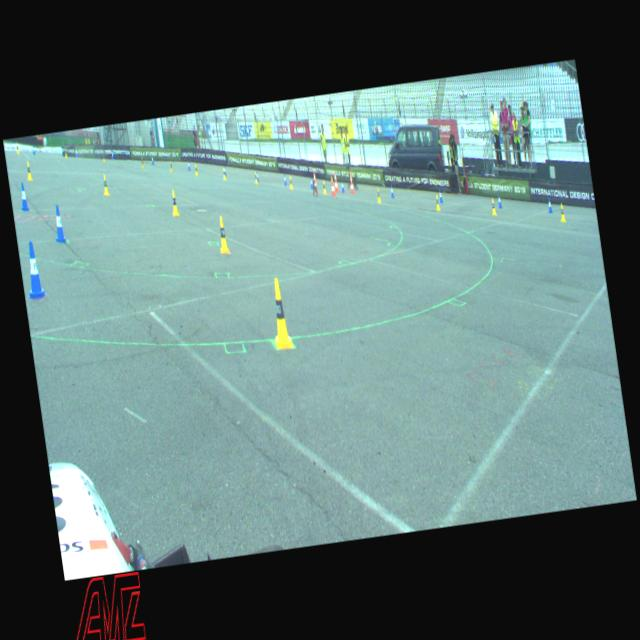blue_cone: (20, 240, 47, 302), (50, 203, 67, 246), (18, 182, 30, 212), (546, 198, 554, 214), (389, 184, 395, 198), (438, 188, 443, 204), (282, 173, 288, 186), (497, 194, 502, 208), (340, 180, 345, 192), (256, 170, 260, 183), (310, 177, 314, 190), (224, 165, 228, 177), (32, 144, 36, 155), (150, 155, 154, 165), (111, 150, 115, 160), (74, 148, 78, 158), (187, 160, 190, 171)
large_orange_cone: (348, 172, 355, 195), (332, 172, 340, 192), (329, 174, 336, 196), (312, 170, 318, 193)
yellow_cone: (264, 276, 296, 352), (216, 215, 230, 255), (170, 189, 180, 218), (100, 173, 110, 197), (24, 161, 34, 181), (558, 203, 566, 223), (490, 198, 497, 217), (434, 194, 441, 212), (375, 187, 381, 203), (168, 160, 174, 172), (288, 177, 293, 190), (194, 163, 199, 176), (140, 156, 145, 168), (322, 180, 326, 194), (254, 171, 258, 184), (63, 148, 68, 158), (222, 168, 226, 180), (16, 142, 20, 154), (102, 152, 106, 163)
